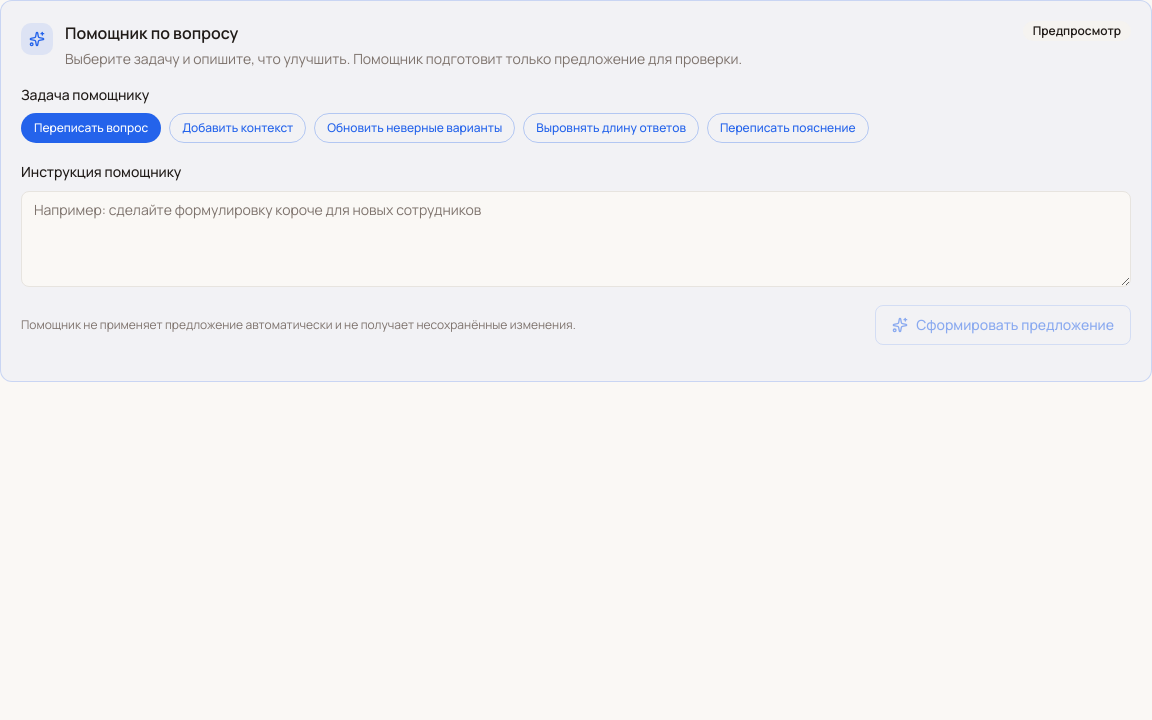
Test: QuestionAssistantPreview › ignores a stale completion after instruction changes and submits the new request with rotated keys
Type "Первая инструкция" into the text box labelled "Инструкция помощнику" at (576, 239), box [21, 191, 1131, 287]
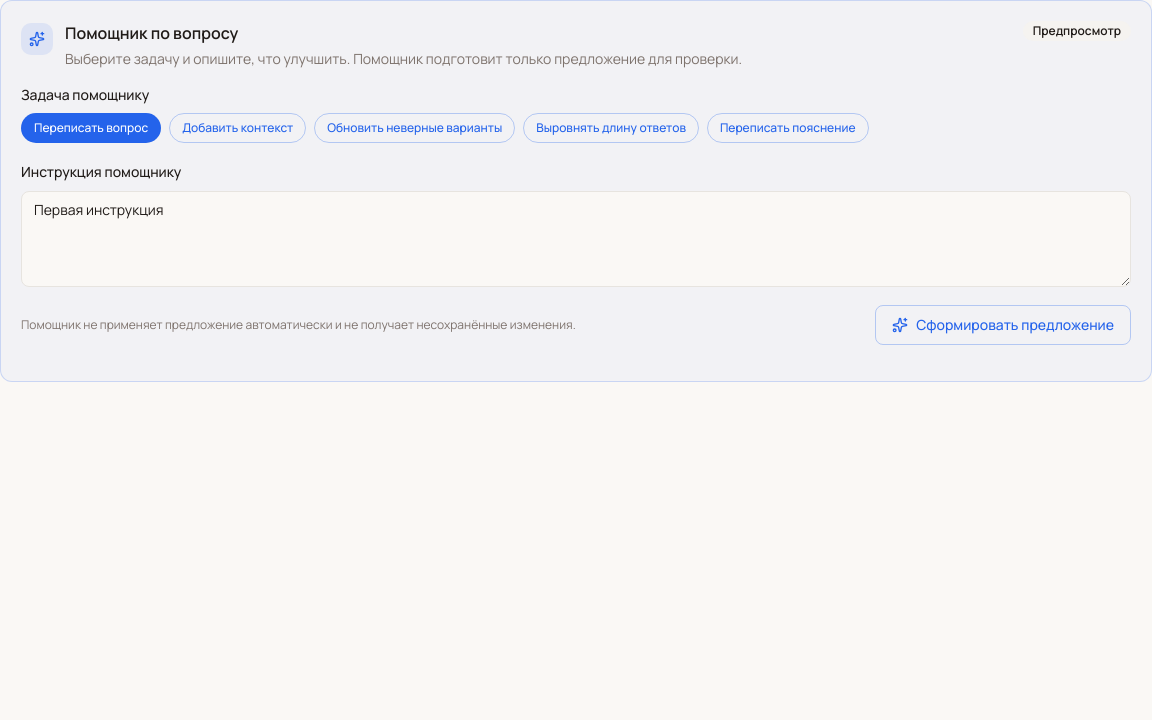
Click the button with aria-label "Сформировать предложение помощника" at (1003, 325), box [875, 305, 1131, 345]
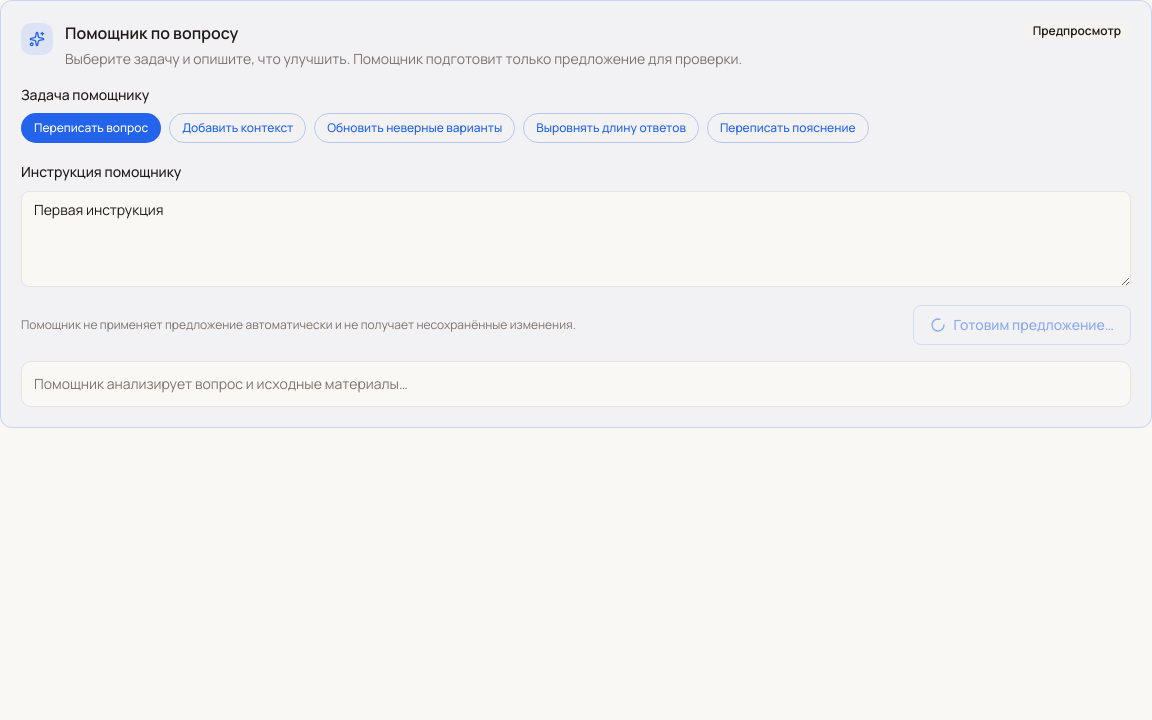
Check: the button with aria-label "Сформировать предложение помощника" is disabled, box [913, 305, 1131, 345]
Replace the text in the text box labelled "Инструкция помощнику" with "Вторая инструкция" at (576, 239), box [21, 191, 1131, 287]
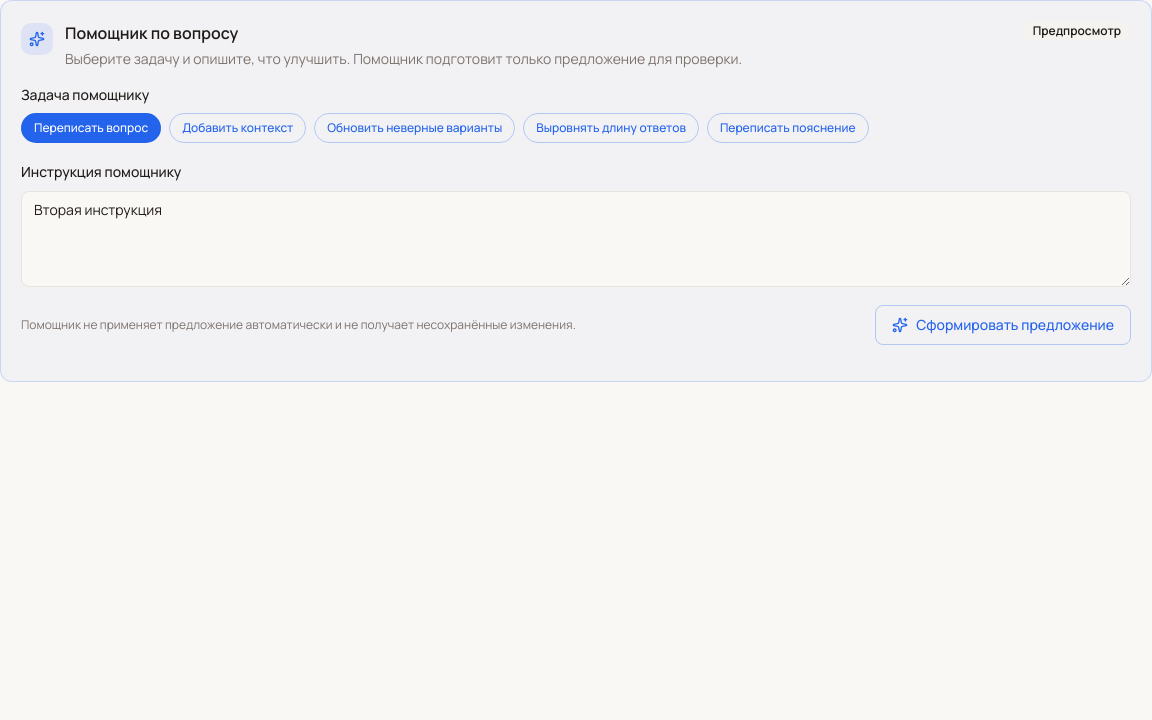
Check: the button with aria-label "Сформировать предложение помощника" is enabled
Click the button with aria-label "Сформировать предложение помощника" at (1003, 325), box [875, 305, 1131, 345]
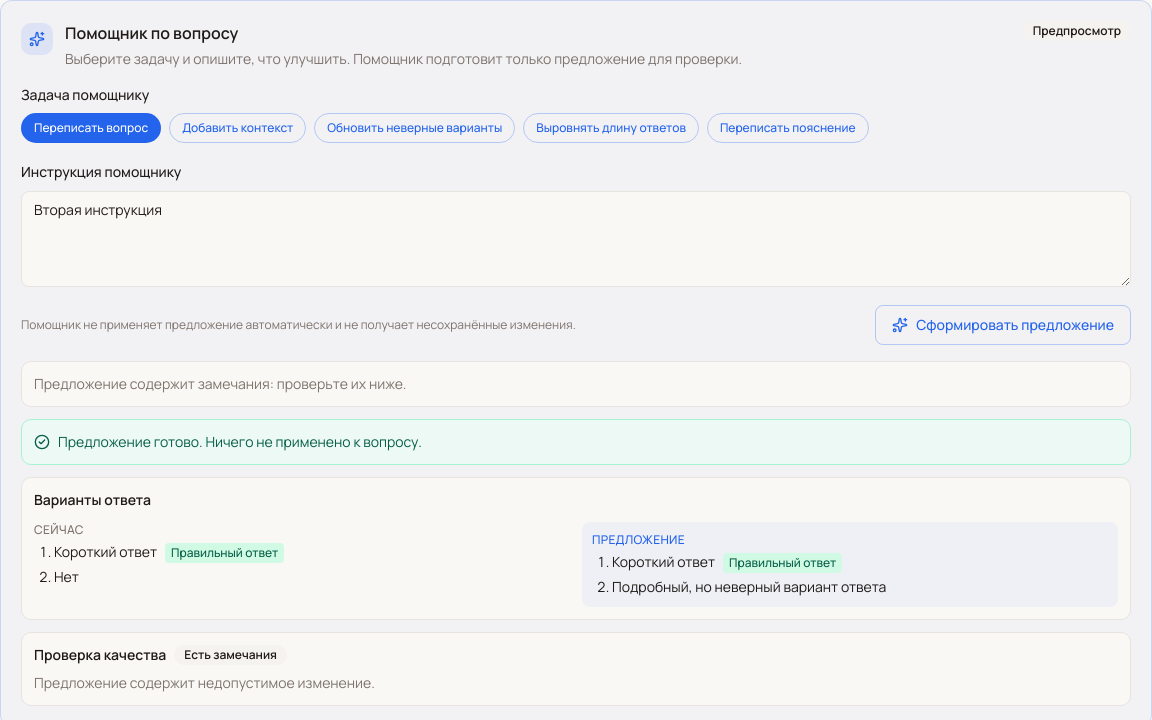
Check: the text "Предложение готово. Ничего не применено к вопросу." is shown, box [58, 432, 422, 452]
